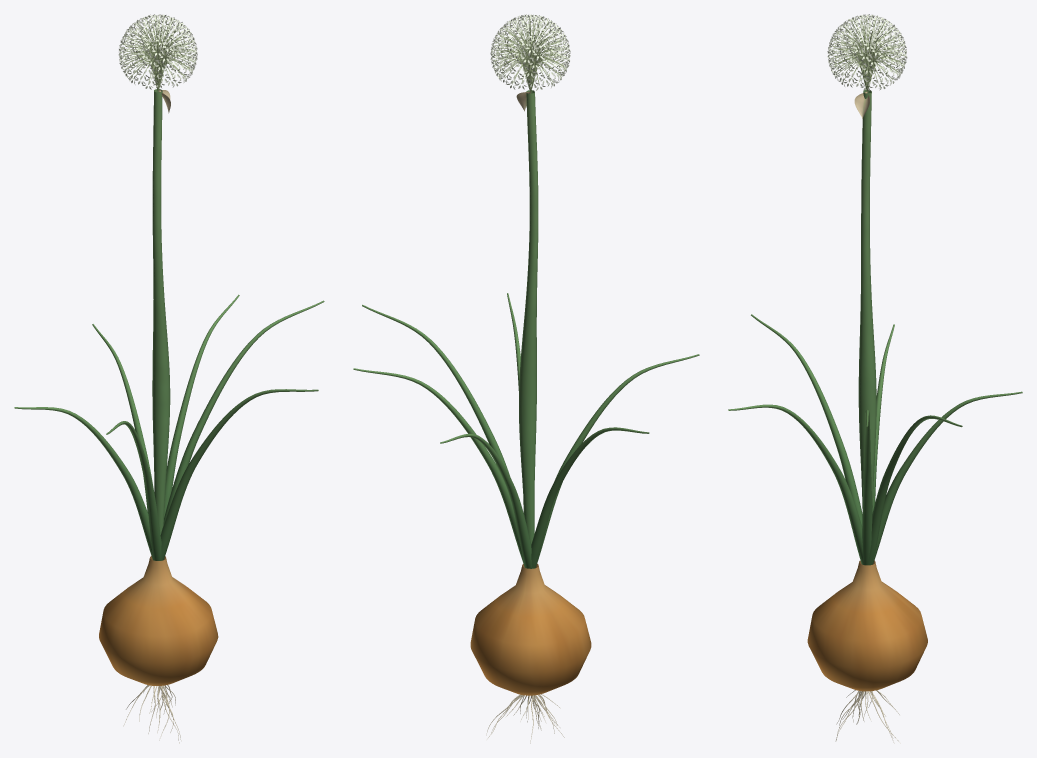
Rendered from 57_Piyozdoshlar.glb.
3 views of the same model, side by side, from view 1: azimuth 30°, elevation 25°; view 2: azimuth 150°, elevation 25°; view 3: azimuth 270°, elevation 25° (orthographic).
Visible parts, largest first — view 1: matte, leaf, stem, petal, root; view 2: matte, stem, leaf, petal, root; view 3: matte, leaf, stem, petal, root.
Boxes of the visible parts, bbox=[...] form: matte: bbox=[99, 90, 218, 685]; leaf: bbox=[14, 294, 324, 560]; stem: bbox=[121, 16, 194, 534]; petal: bbox=[118, 14, 197, 89]; root: bbox=[123, 685, 181, 743]; matte: bbox=[470, 92, 591, 695]; stem: bbox=[493, 17, 566, 543]; leaf: bbox=[353, 293, 699, 568]; petal: bbox=[490, 14, 570, 90]; root: bbox=[486, 694, 564, 743]; matte: bbox=[807, 91, 927, 691]; leaf: bbox=[728, 314, 1022, 565]; stem: bbox=[831, 17, 904, 513]; petal: bbox=[827, 14, 907, 90]; root: bbox=[835, 690, 900, 743].
Bounding box in the file's own units: 0.5048 × 1.17 × 0.4309.
